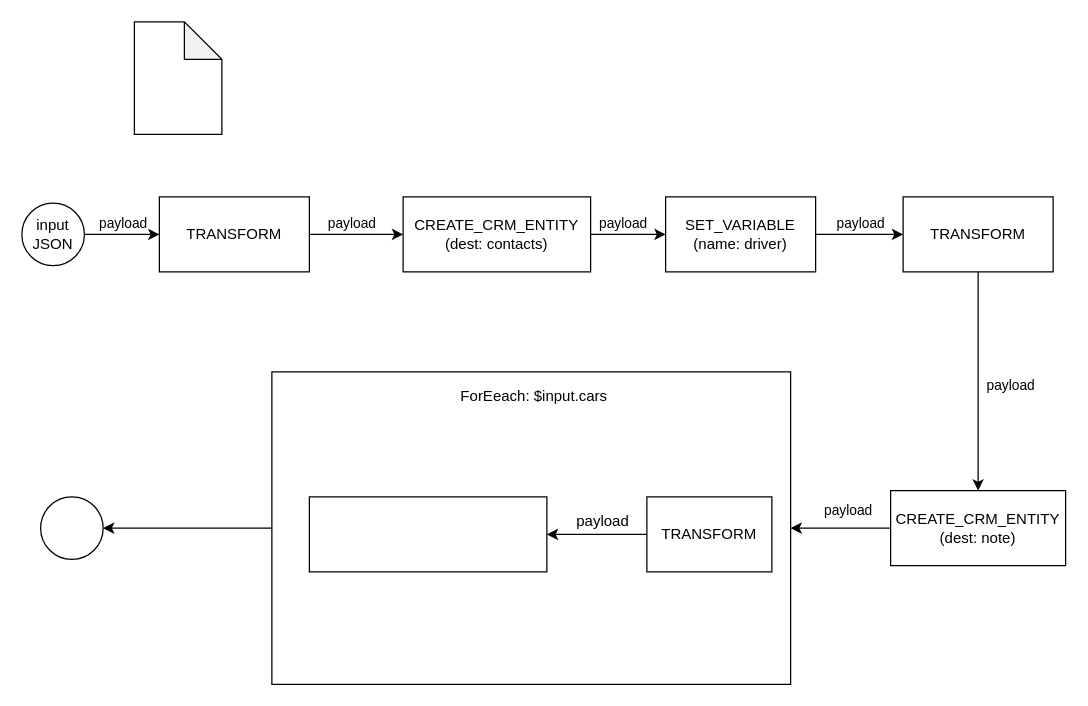
Some shapes in this 1088 by 706 pixel diagram are drawn without their labels. The box of each missing label's shape, as (x1, y1, x2, y2) in pixels:
CREATE_CRM_ENTITY (dest: vehicle): (308, 496, 547, 572)
DONE: (39, 496, 103, 559)
Vars: (133, 21, 222, 134)
